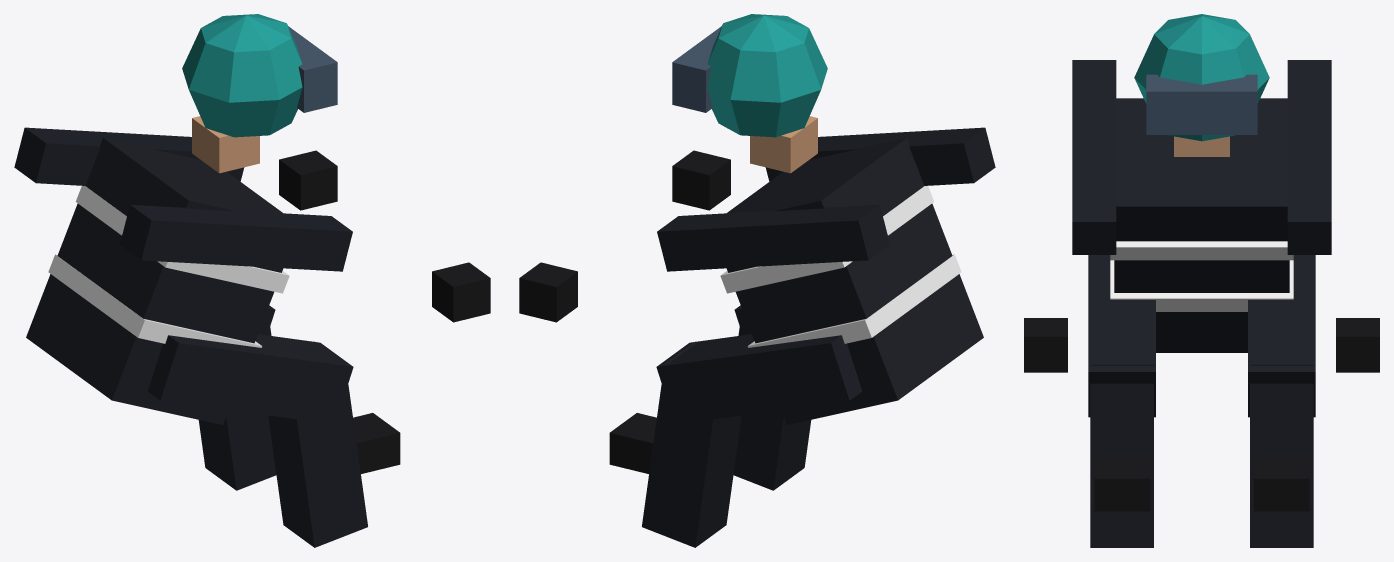
File: jetski_rider_turquesa.obj
3 views of the same model, side by side, from view 1: azimuth 30°, elevation 25°; view 2: azimuth 150°, elevation 25°; view 3: azimuth 270°, elevation 25° (orthographic). The views are drawn at different scales.
Parts seen in each view (by area): view 1: jetski_rider_turquesa; view 2: jetski_rider_turquesa; view 3: jetski_rider_turquesa.
Boxes of the visible parts, x1=… form: jetski_rider_turquesa: x1=14, y1=14, x2=490, y2=547; jetski_rider_turquesa: x1=519, y1=14, x2=995, y2=547; jetski_rider_turquesa: x1=1024, y1=14, x2=1379, y2=547.
Size of the model in its own units: 0.9894 by 1.4 by 0.893.
